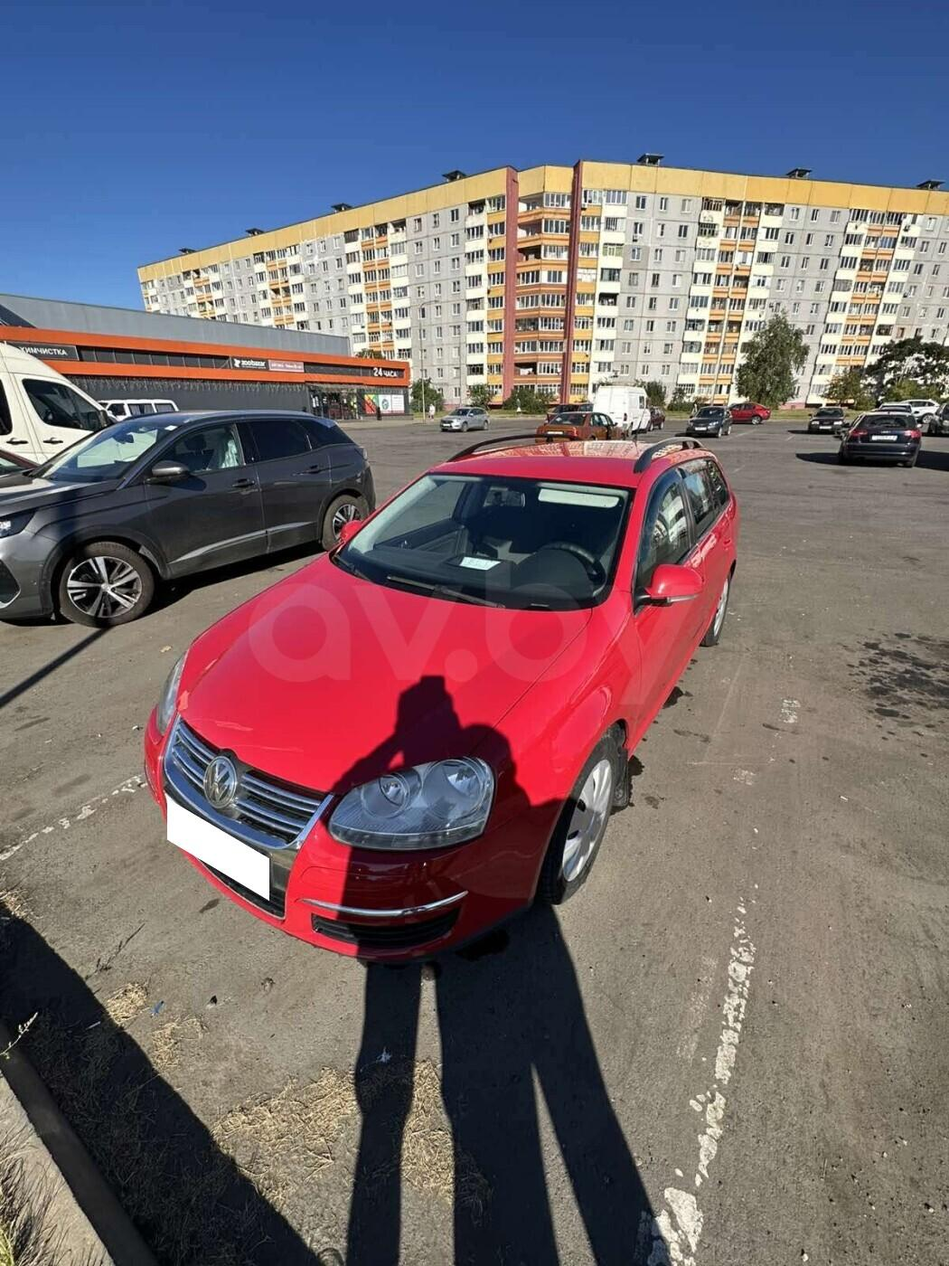Golf_2003-2009: (140, 437, 753, 933)
